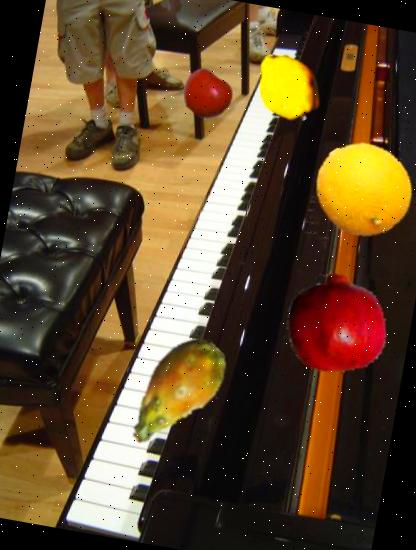Cactus: (103, 320, 245, 462)
Cantaloupe: (306, 131, 416, 245)
Cherry: (176, 65, 236, 124)
Pomegranate: (278, 265, 394, 382)
Quince: (244, 44, 330, 130)
